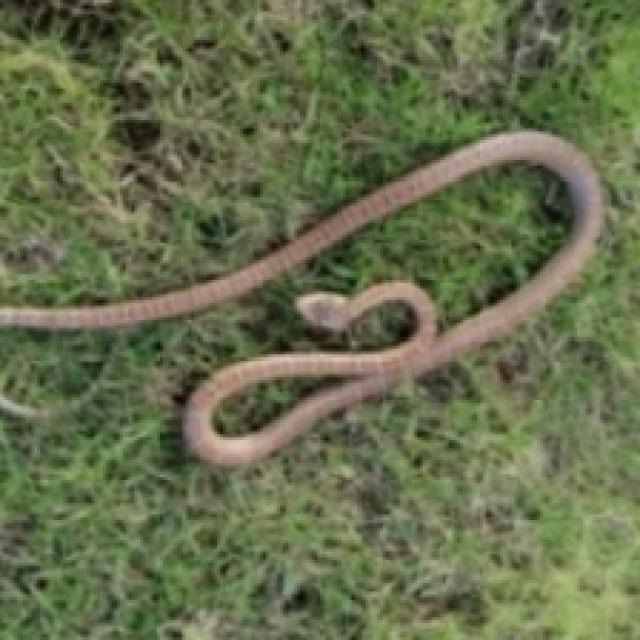paradise tree snake: (0, 131, 603, 463), (211, 374, 343, 437)
